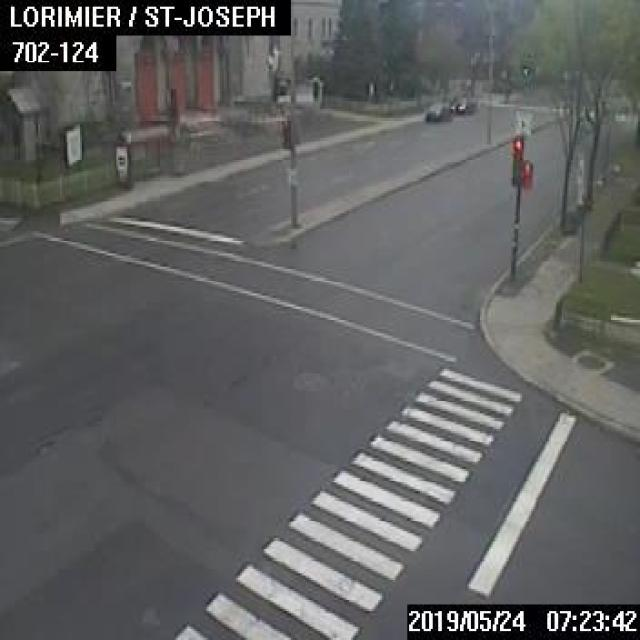vehicle: (449, 94, 474, 112), (424, 102, 448, 120)
